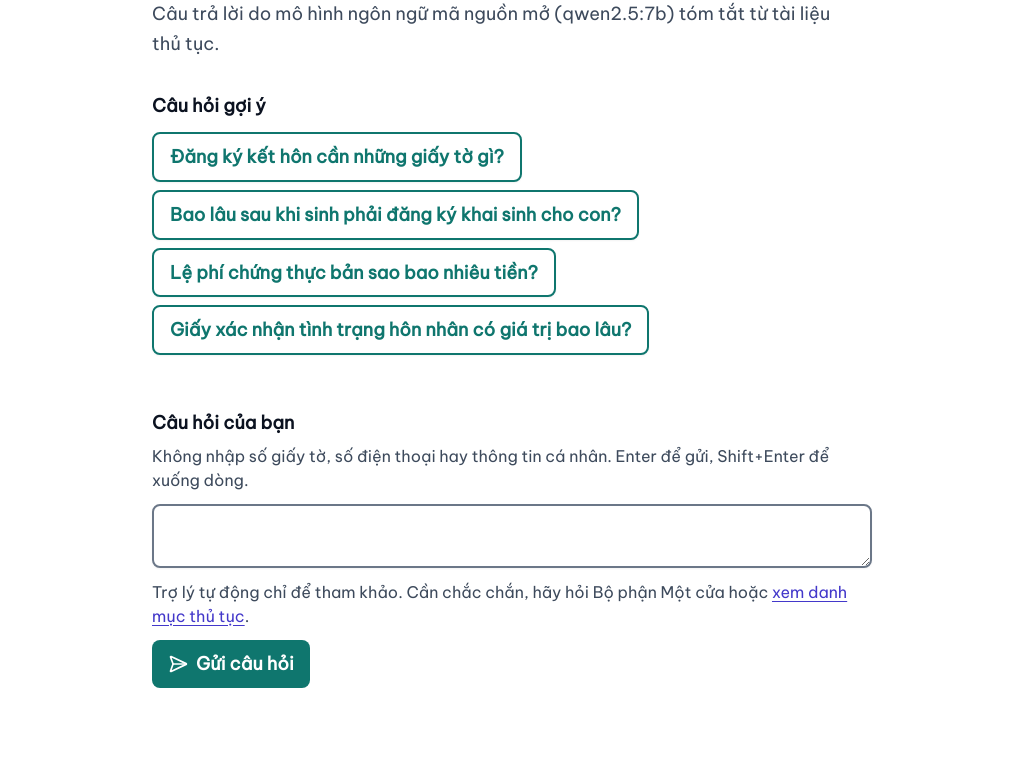
Test case: trang hỏi đáp › câu hỏi rỗng thì báo lỗi, không gọi trợ lý
The image size is (1024, 768).
(page scrolled)
Click the button "Gửi câu hỏi".
click(231, 664)  # box 152,640 -> 310,688
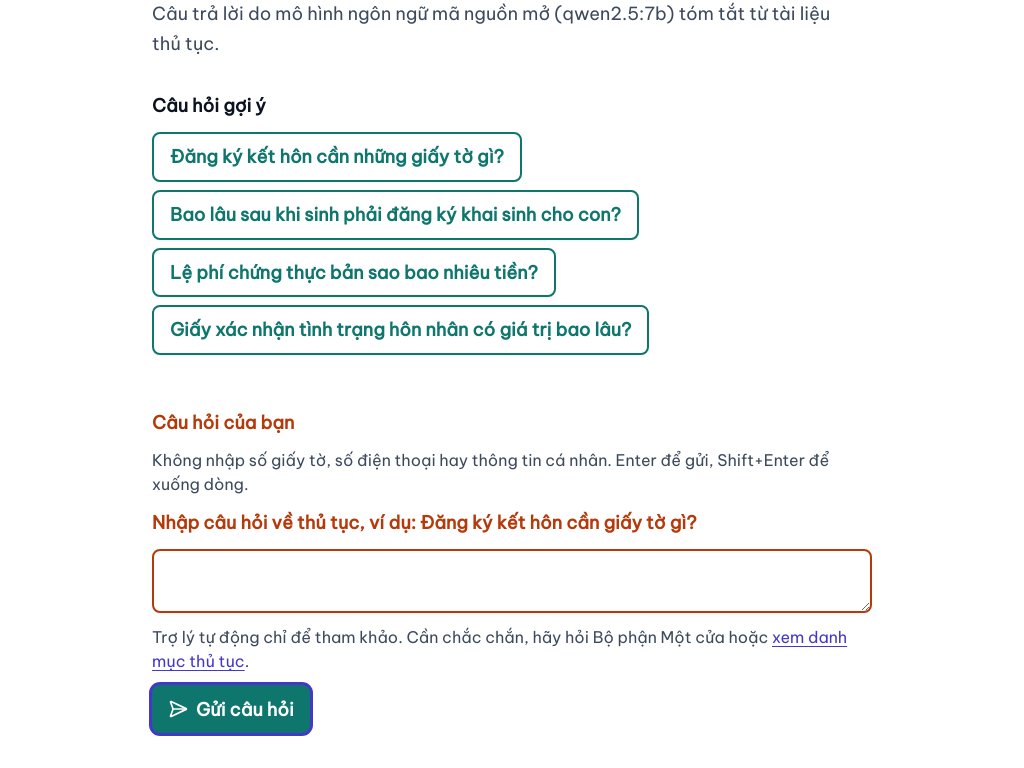
Expected: the text "Nhập câu hỏi về thủ tục" is shown, 152,511 -> 697,534
